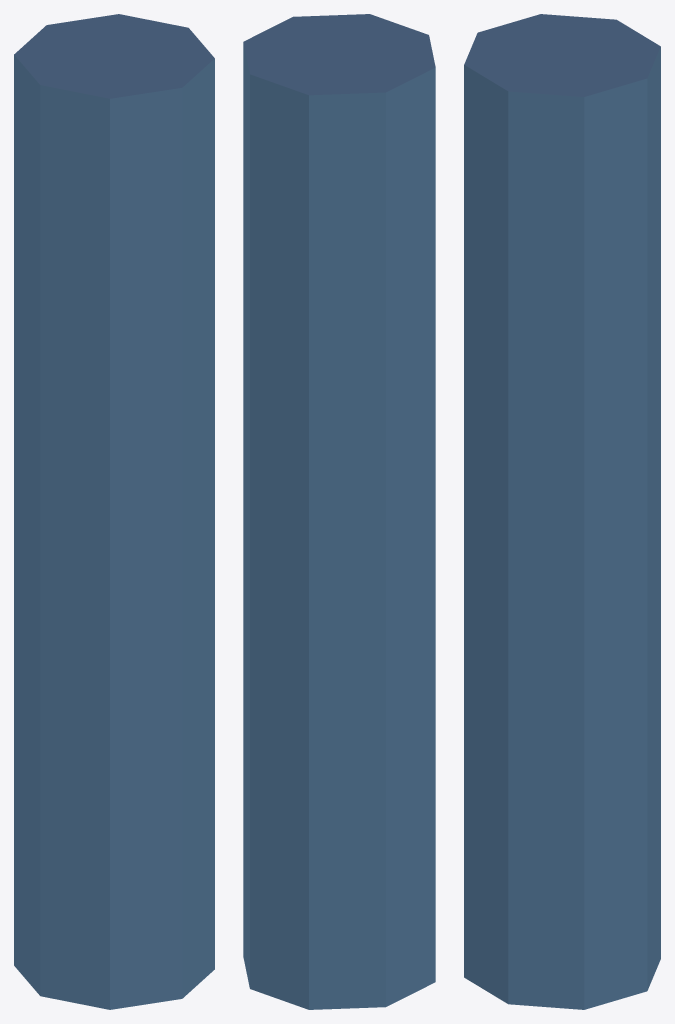
Rendered from pillar.glb.
The picture shows the model from 3 angles, left to right: view 1: azimuth 30°, elevation 25°; view 2: azimuth 150°, elevation 25°; view 3: azimuth 270°, elevation 25°; orthographic projection.
Parts seen in each view (by area): view 1: pillar; view 2: pillar; view 3: pillar.
Boxes of the visible parts, <box> form: pillar: <box>14,14,214,1009</box>; pillar: <box>243,14,435,1009</box>; pillar: <box>464,14,660,1009</box>.
Bounding box in the file's own units: 1.46 × 7.5 × 1.46.
1 material, 1 textured.
